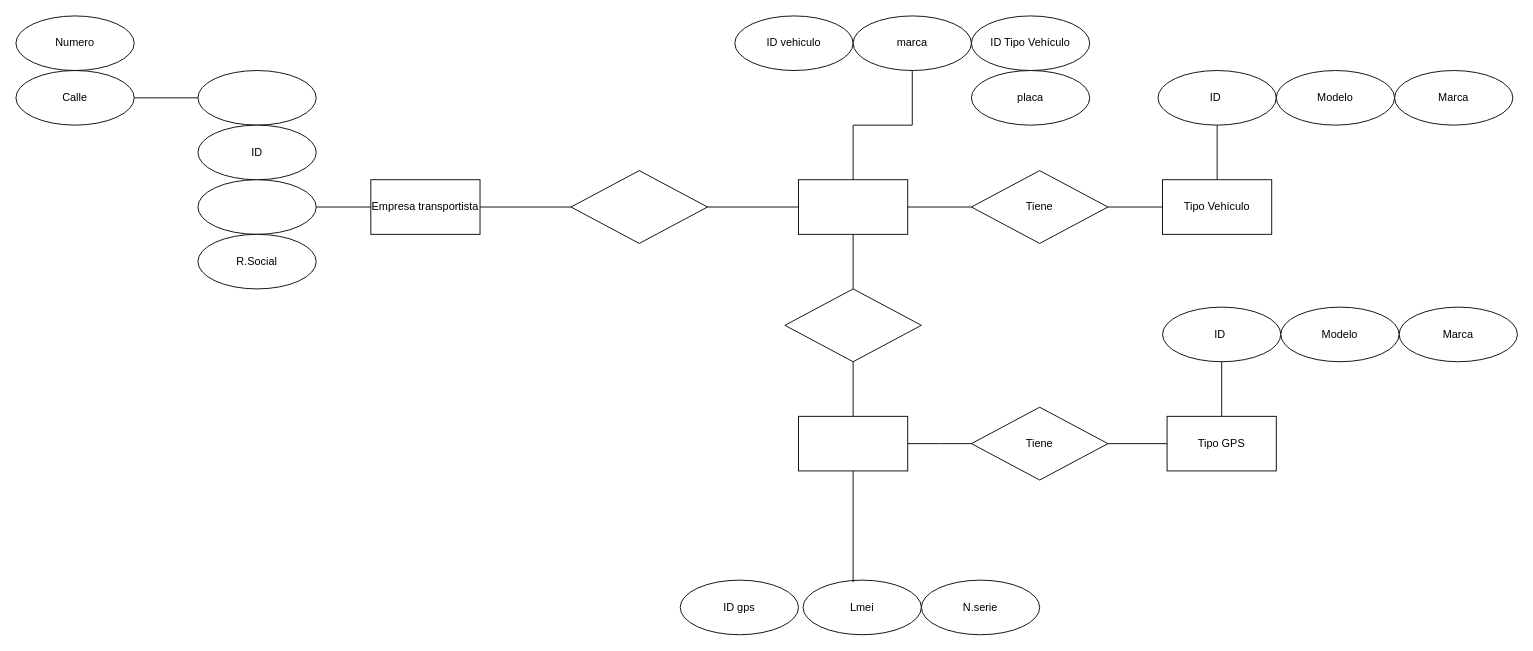
Some shapes in this 1533 by 651 pixel diagram are drawn without their labels. Each missing label, with the box of its shape:
Direccion: (197, 70, 316, 125)
Equipo GPS: (798, 415, 908, 471)
posee: (570, 170, 708, 243)
RUC: (197, 179, 316, 234)
Vehículo: (798, 179, 908, 234)
